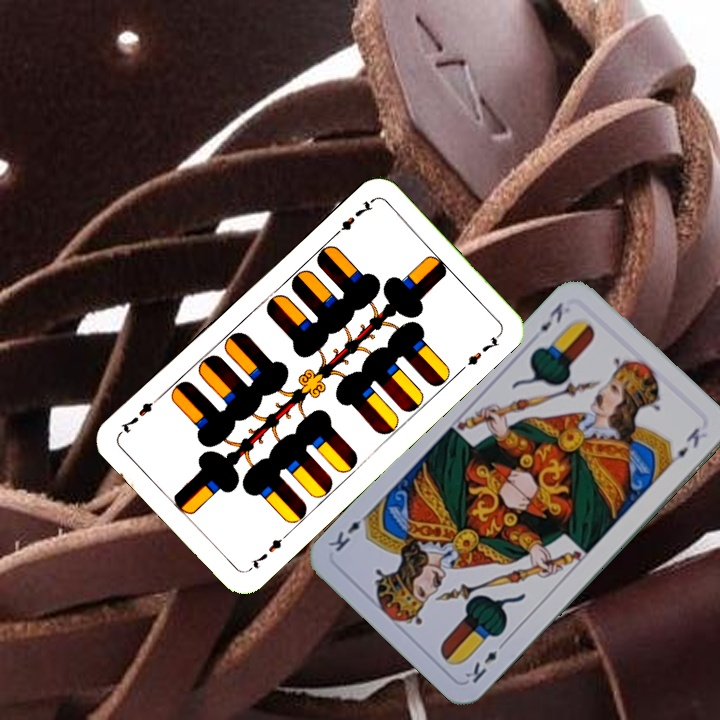E7: (328, 195, 376, 241), (244, 529, 291, 574)
EK: (460, 636, 509, 686), (535, 298, 566, 334)
